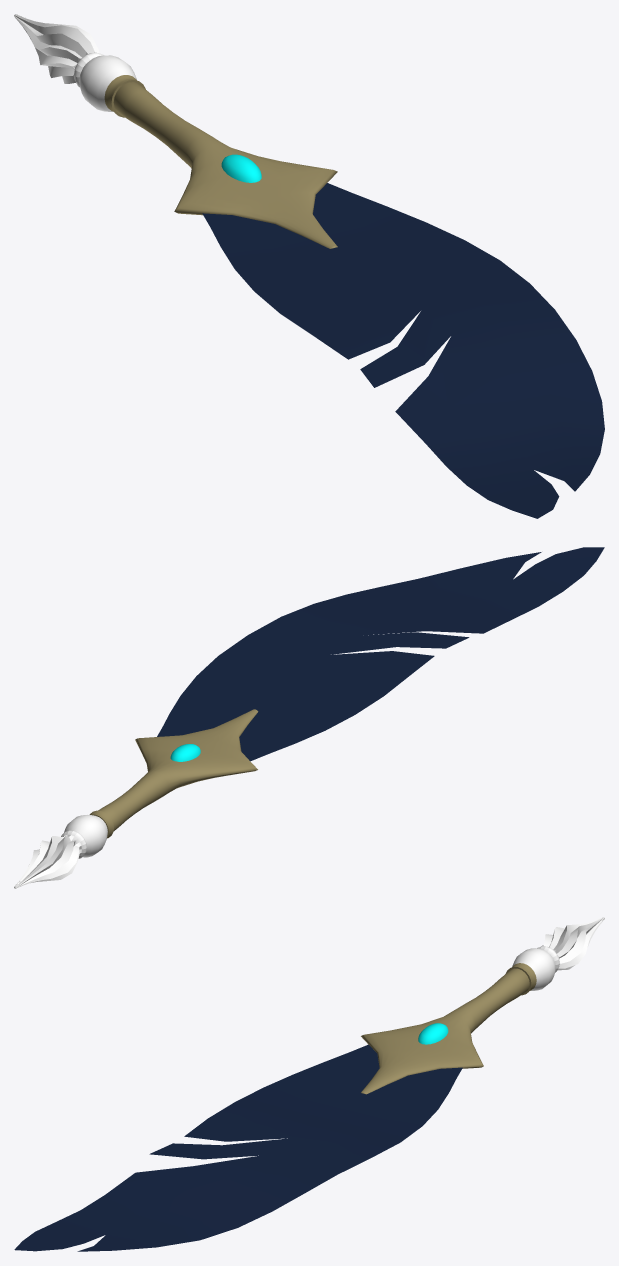
Rendered from GlassPen_FeatherTest.fbx.
3 renders of one model, top to bottom at view 1: azimuth 30°, elevation 25°; view 2: azimuth 150°, elevation 25°; view 3: azimuth 330°, elevation 25°, orthographic. The views are drawn at different scales.
Parts seen in each view (by area): view 1: featherpen_feather, featherpen_decor, featherpen_glasstip, featherpen_decorjewels; view 2: featherpen_feather, featherpen_decor, featherpen_glasstip; view 3: featherpen_feather, featherpen_decor, featherpen_glasstip, featherpen_decorjewels.
Boxes of the visible parts, x1,y1,x2,y2 form: featherpen_feather: [202, 183, 604, 518]; featherpen_decor: [113, 82, 337, 248]; featherpen_glasstip: [14, 14, 136, 111]; featherpen_decorjewels: [221, 154, 261, 182]; featherpen_feather: [157, 547, 604, 761]; featherpen_decor: [98, 709, 258, 830]; featherpen_glasstip: [14, 815, 107, 888]; featherpen_feather: [14, 1044, 462, 1251]; featherpen_decor: [361, 968, 529, 1094]; featherpen_glasstip: [512, 917, 604, 990]; featherpen_decorjewels: [418, 1023, 448, 1044].
Bounding box in the file's own units: 4.65 × 0.9295 × 21.14.
